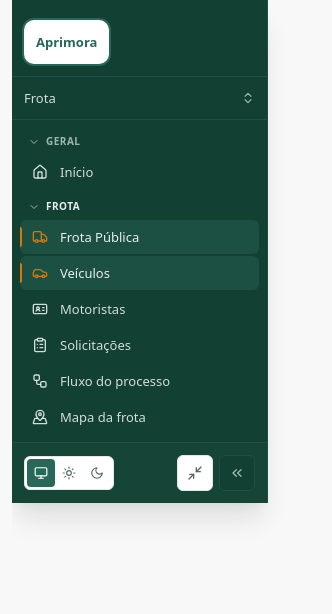
Test case: cabeçalho de módulo (topo da Sidebar) — seletor › clicar abre a lista com os OUTROS módulos (raiz de cada um) e o link para /modulos — clicar de novo fecha
Click the button with test id "sidebar-modulo-header": (140, 98) [12,77,267,119]
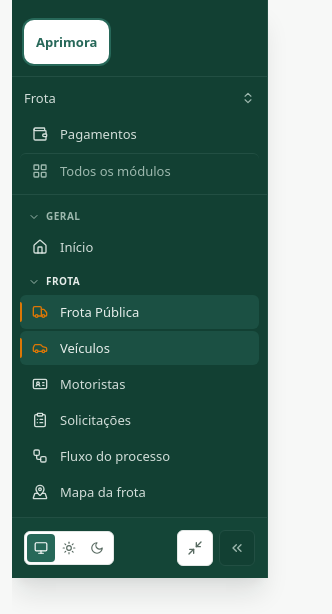
Click the button with test id "sidebar-modulo-header": (140, 98) [12,77,267,119]
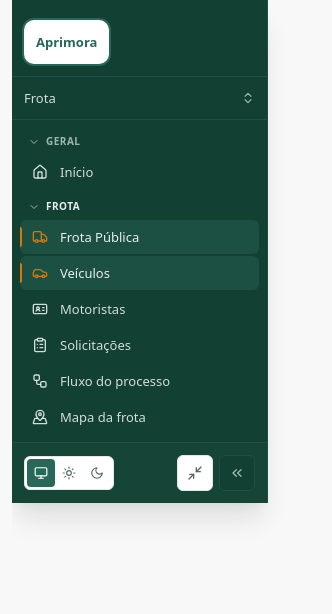
Result: the element with test id "sidebar-modulo-lista" is gone
